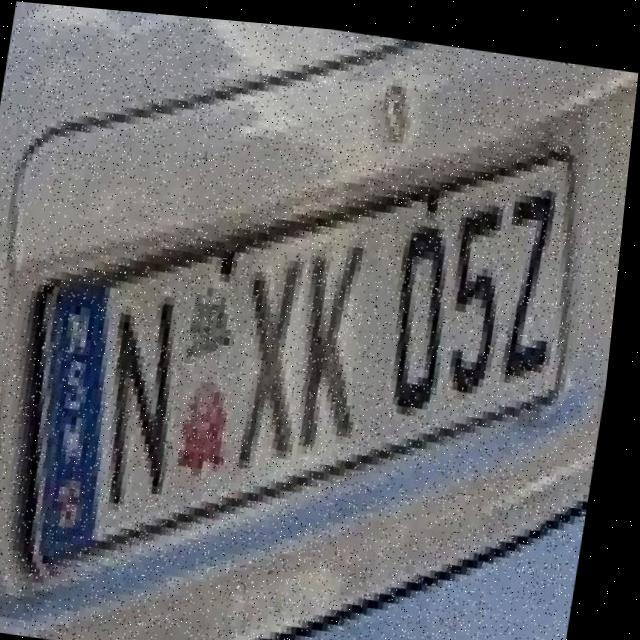LicensePlate: (0, 60, 613, 636)
